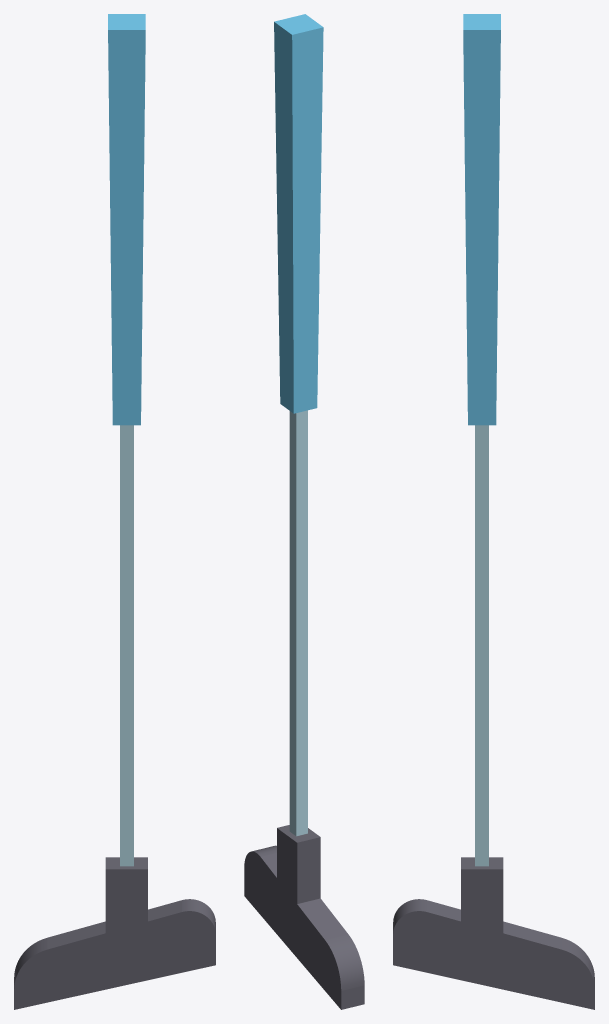
Rendered from club_blue.fbx.
3 views of the same model, side by side, from view 1: azimuth 90°, elevation 25°; view 2: azimuth 210°, elevation 25°; view 3: azimuth 270°, elevation 25° (orthographic). The views are drawn at different scales.
Visible parts, largest first — view 1: club_blue; view 2: club_blue; view 3: club_blue.
Part boxes in pixels (left/top/right/bottom): club_blue: left=14, top=14, right=215, bottom=1009; club_blue: left=244, top=14, right=364, bottom=1009; club_blue: left=393, top=14, right=594, bottom=1009.
Size of the model in its own units: 0.3453 by 9.9 by 1.84.
